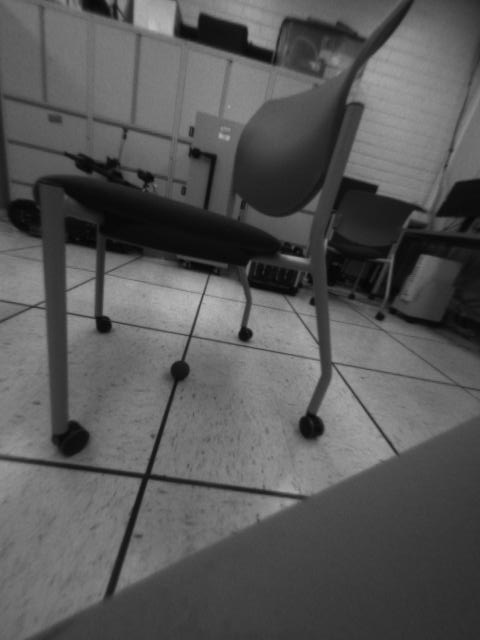dogtoy: (166, 356, 196, 385)
